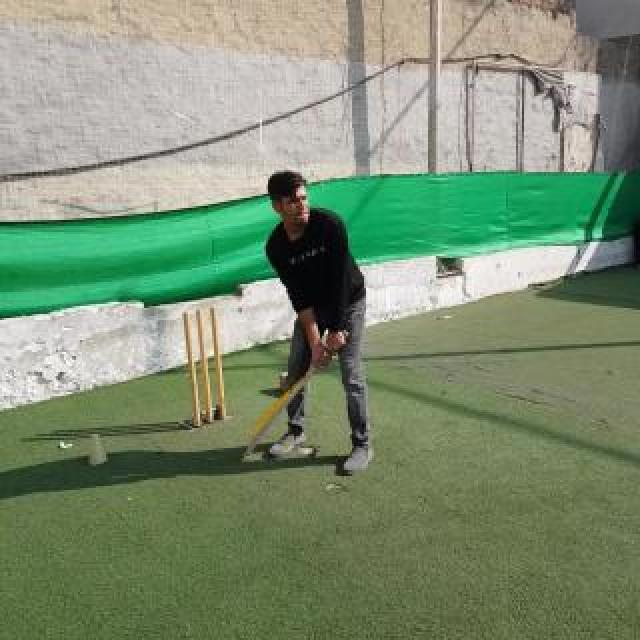bat: (244, 330, 350, 458)
